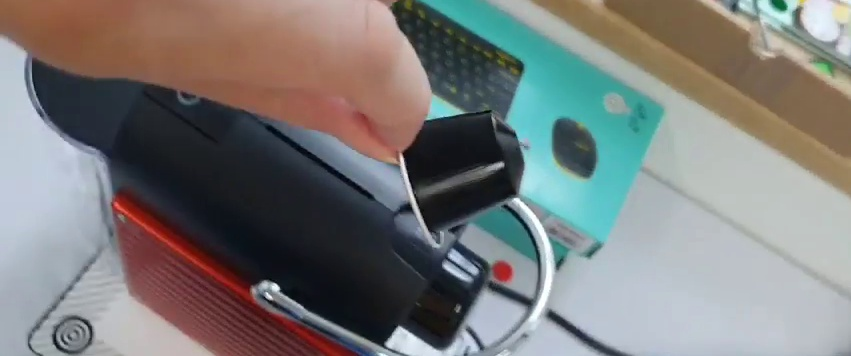capsule_10: (394, 111, 528, 243)
